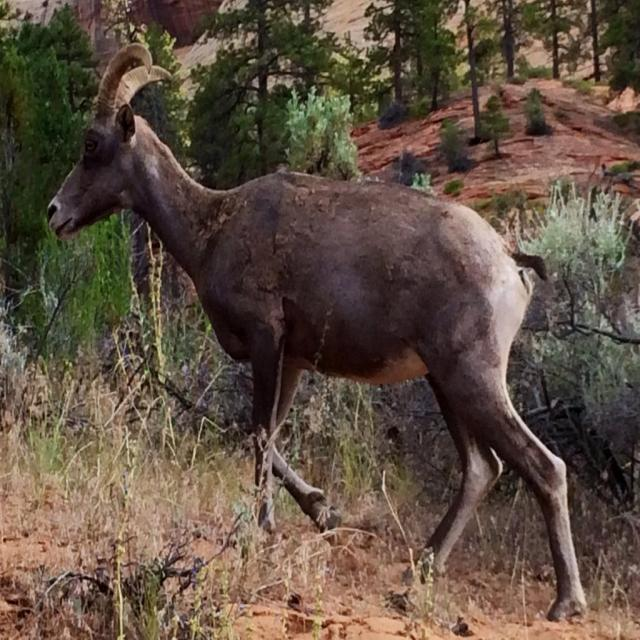Deer: (44, 43, 587, 622)
